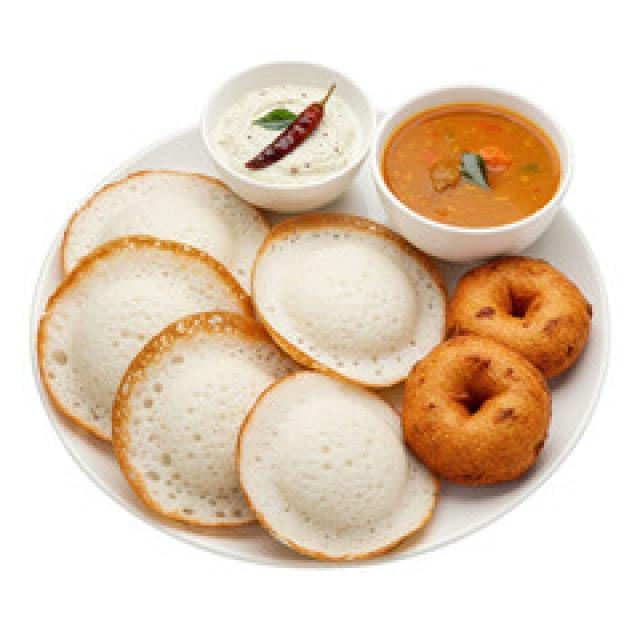AAPAM: (34, 174, 453, 557)
KURMA: (381, 100, 559, 225)
VADA: (399, 256, 593, 487)
WHITE CHUTNEY: (222, 86, 356, 178)
